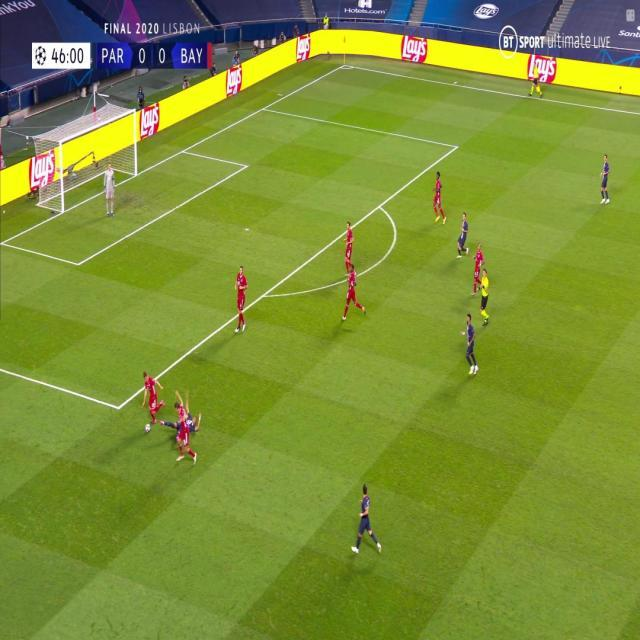ball: (145, 422, 151, 434)
goalkeeper: (103, 161, 116, 219)
player: (349, 484, 382, 558), (174, 391, 197, 468), (340, 263, 366, 327), (159, 406, 203, 442), (141, 371, 166, 429), (459, 312, 479, 377), (234, 263, 249, 337), (340, 223, 357, 285), (470, 242, 486, 296), (432, 170, 447, 225), (598, 153, 612, 206), (456, 211, 471, 260)
referee: (478, 269, 492, 326), (529, 61, 543, 100)
